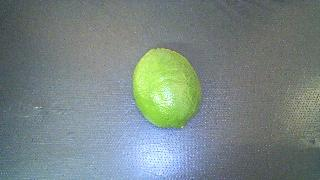EXPORTACION: (133, 48, 201, 128)
